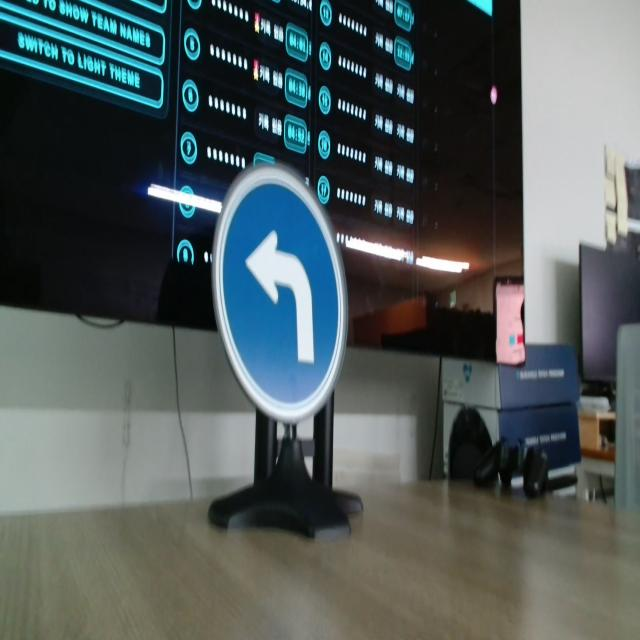left_direction: (208, 155, 356, 433)
